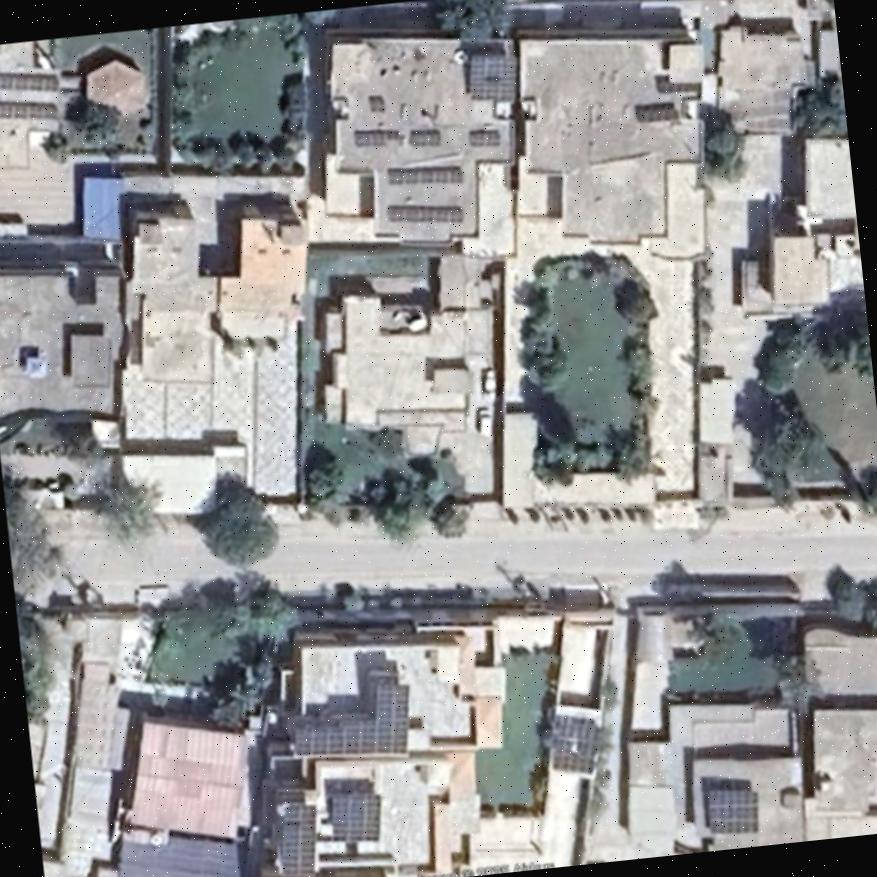Solarpanel: (293, 686, 408, 753), (549, 714, 597, 772), (280, 804, 314, 874), (330, 793, 378, 839), (707, 788, 757, 832), (470, 56, 515, 98), (387, 205, 463, 222), (384, 166, 461, 181), (0, 100, 57, 118), (0, 75, 56, 89), (467, 129, 500, 145), (409, 129, 440, 144), (353, 130, 385, 144)
